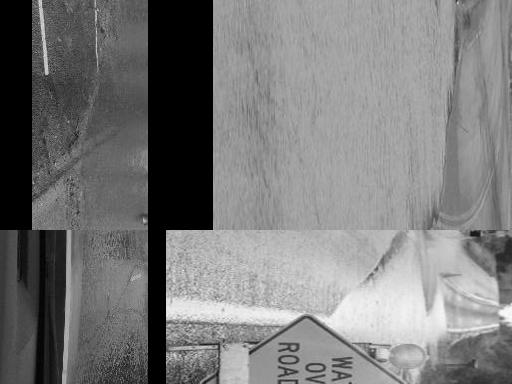road_waterlogging: (216, 0, 408, 230), (67, 230, 148, 384), (411, 0, 459, 193), (375, 244, 449, 342), (123, 0, 148, 230)
